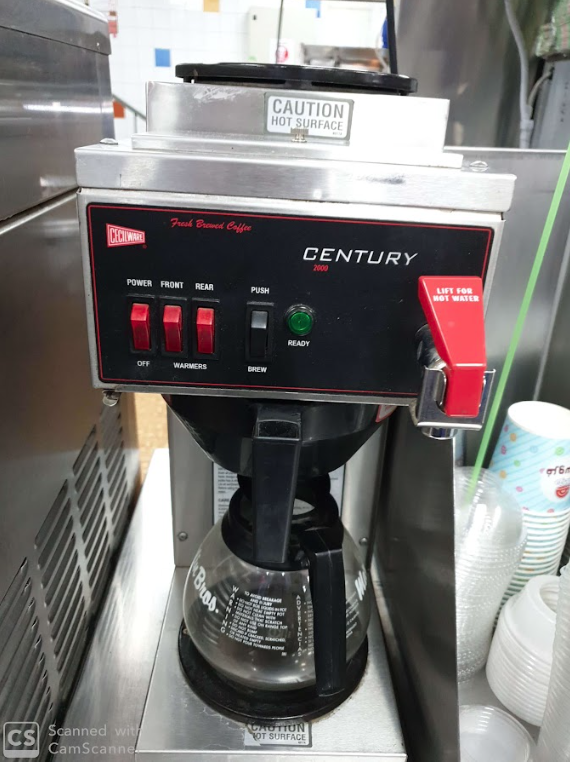Coffee Maker: (47, 37, 536, 740)
